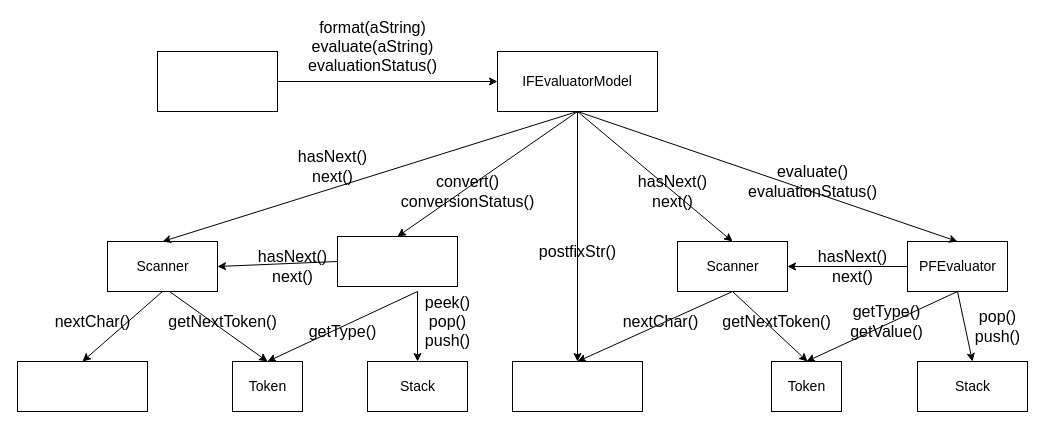
The diagram is 1045 pixels wide and 437 high, and some of its shapes have lost their labels. The box of each missing label's shape, as (x1, y1, x2, y2) in pixels:
IFEvaluatorView: (156, 50, 278, 112)
IFToPFConverter: (336, 236, 458, 286)
infix expression string: (16, 360, 148, 412)
postifx expression string: (512, 360, 642, 412)
